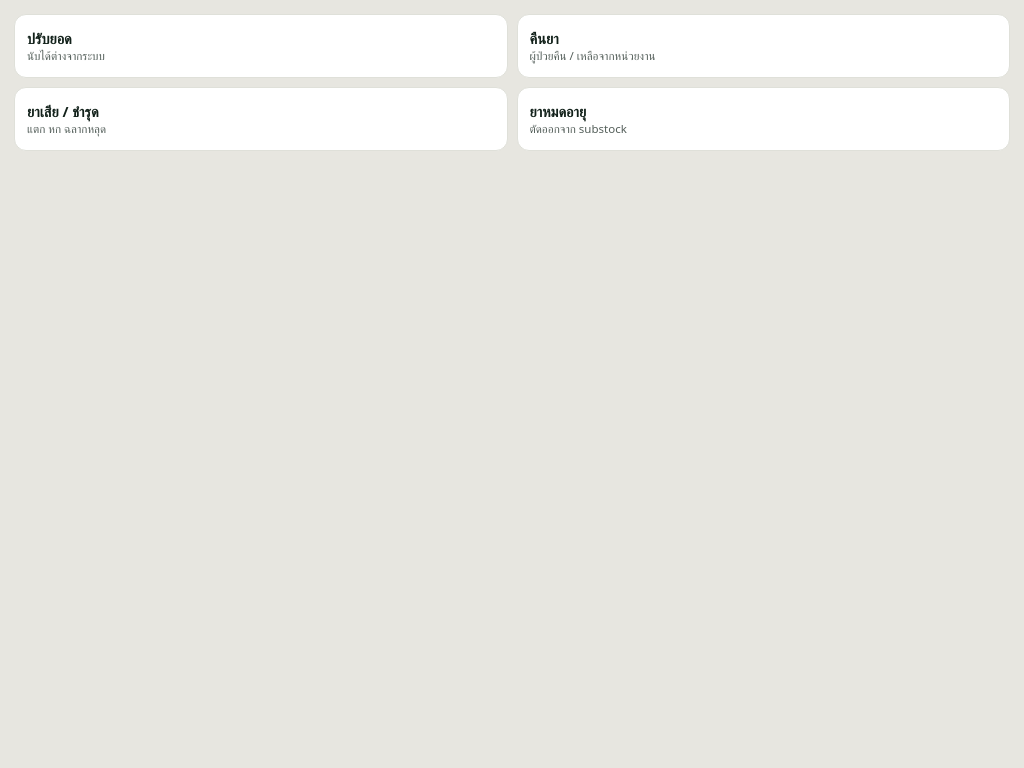
Test case: AdjustScreen — ปรับยอด delta-vs-absolute warning › shows the delta warning and the delta-worded label for "ปรับยอด" (default type)
The width and height of the screenshot is (1024, 768).
Click the button "ปรับยอด นับได้ต่างจากระบบ". click: (49,38)
box: 14,14 -> 508,78
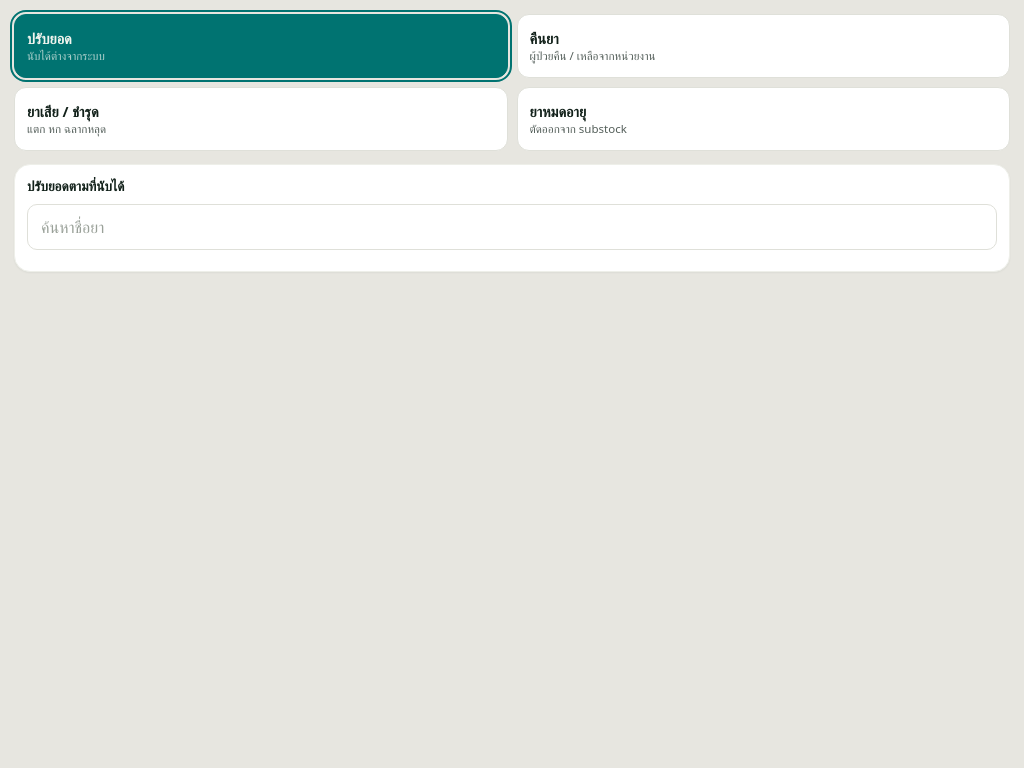
Type "Paracetamol" into the field with placeholder "ค้นหาชื่อยา". click: (512,227)
box: 27,204 -> 997,250
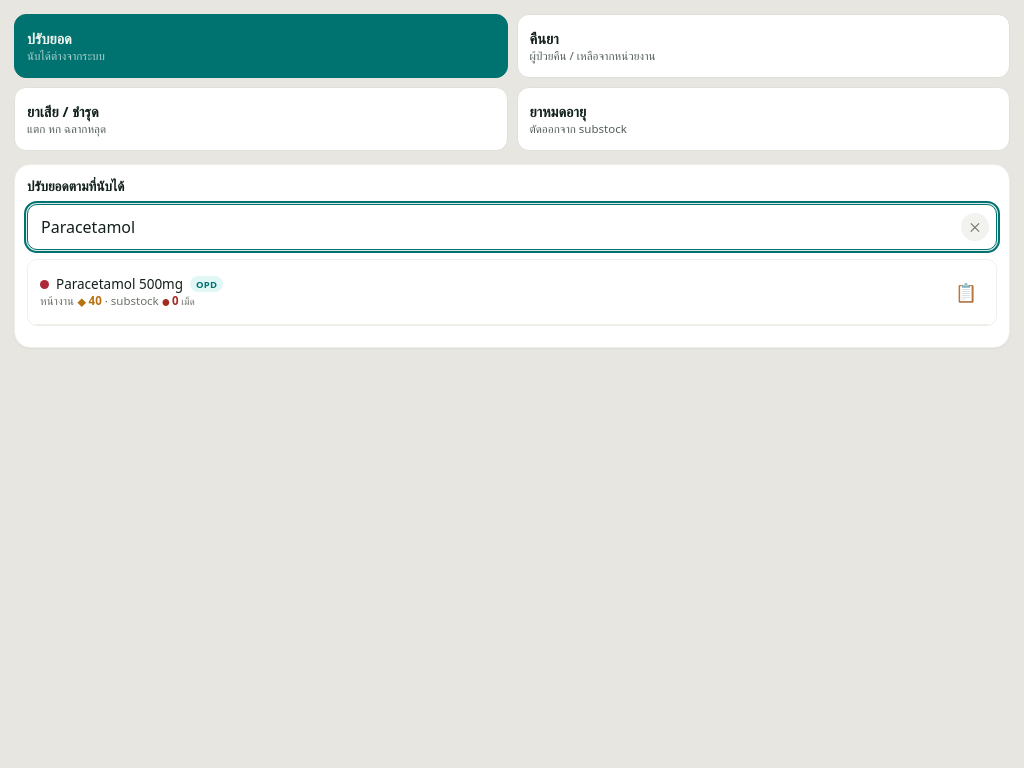
Click the text "Paracetamol 500mg". click: (132,284)
box: 40,275 -> 223,293
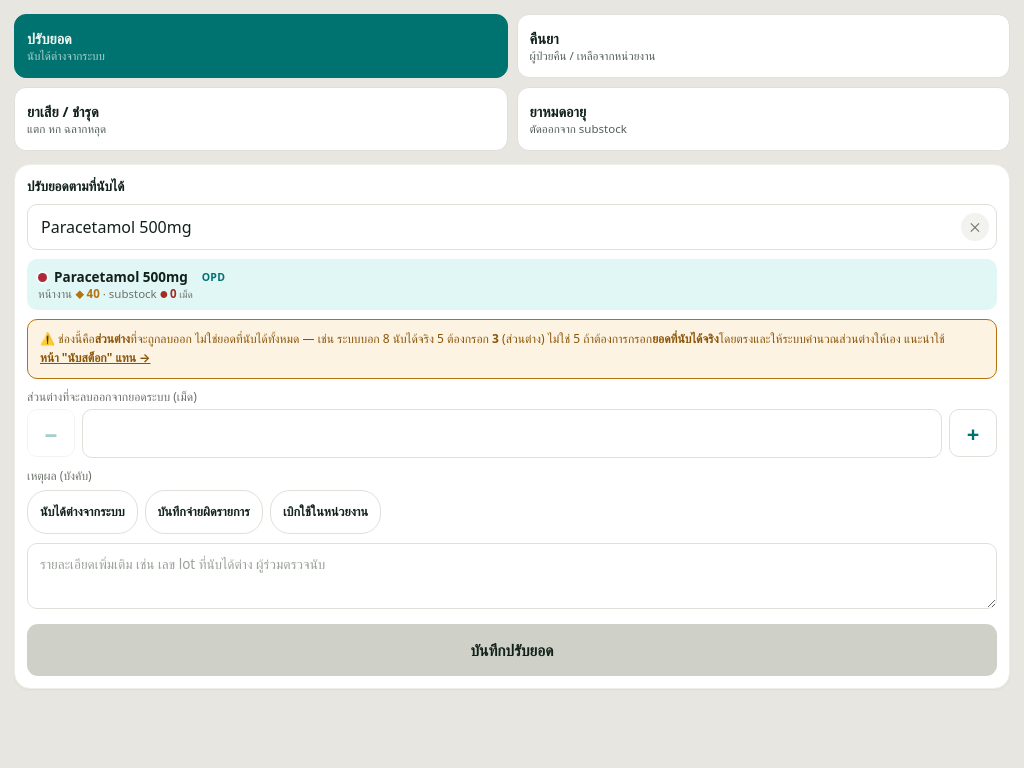
expect the text "ช่องนี้คือ" is shown: met, box 40,330 -> 95,347
expect the text "ส่วนต่างที่จะลบออกจากยอดระบบ (เม็ด)" is shown: met, box 27,388 -> 197,404
